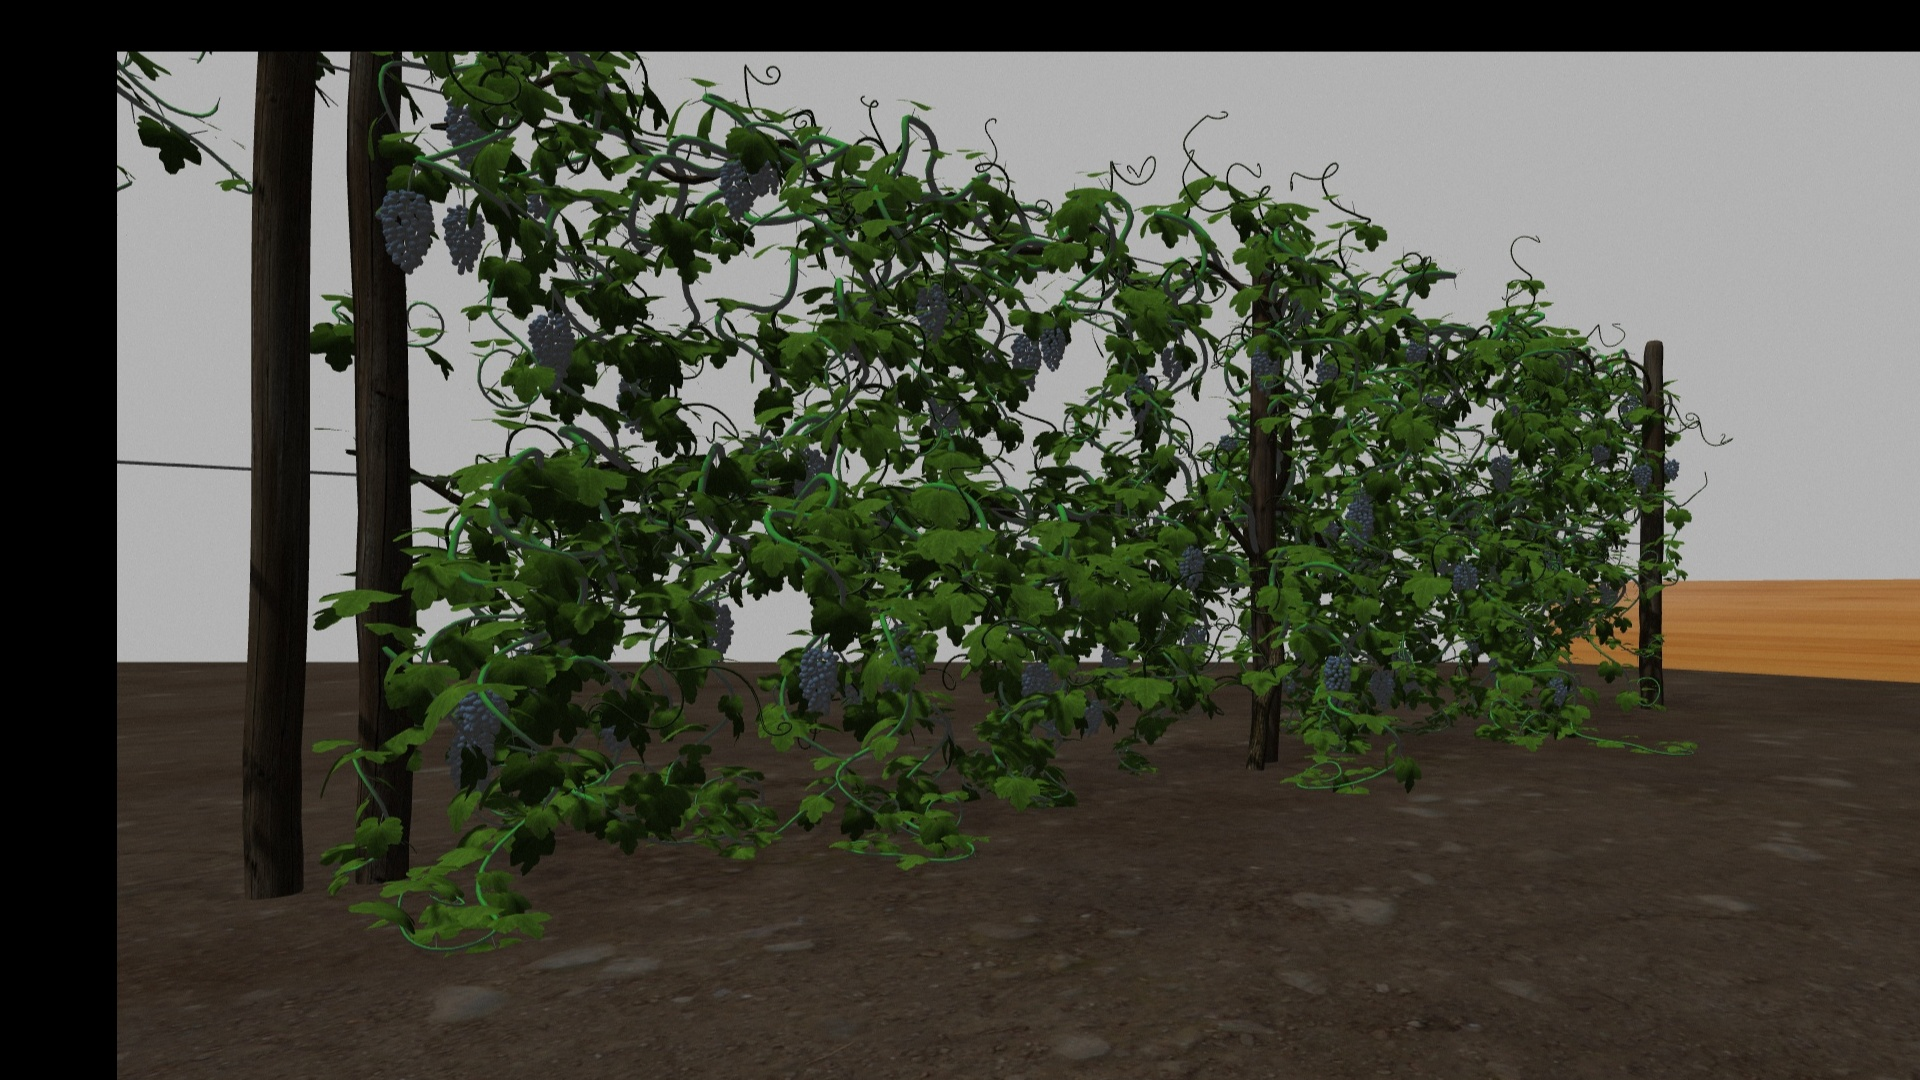grape: (444, 690, 506, 790), (376, 189, 433, 272), (526, 310, 576, 386), (442, 204, 485, 276), (443, 102, 491, 162), (796, 647, 837, 716), (695, 603, 735, 665), (717, 156, 754, 218), (914, 284, 949, 339), (1009, 335, 1039, 392), (1342, 498, 1373, 554), (1036, 314, 1065, 371), (746, 150, 781, 196), (1249, 343, 1280, 392), (1019, 662, 1054, 702), (1174, 546, 1204, 589), (1319, 653, 1352, 690), (1367, 669, 1396, 708), (1486, 454, 1513, 495), (1077, 698, 1102, 738), (1452, 562, 1478, 595), (1543, 676, 1569, 707), (1631, 463, 1652, 491), (1313, 363, 1337, 384), (1404, 342, 1425, 364), (1590, 444, 1610, 465), (1662, 458, 1679, 481)
